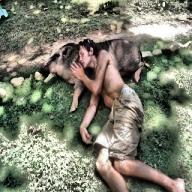boar: (40, 38, 149, 112)
